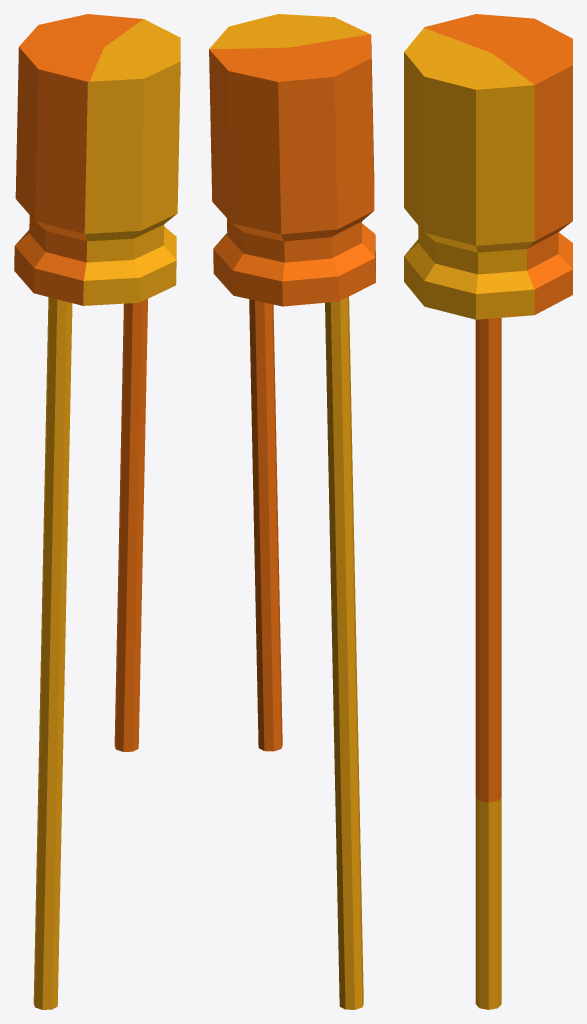
Rendered from capacitorr.fbx.
3 renders of one model, left to right at view 1: azimuth 30°, elevation 25°; view 2: azimuth 150°, elevation 25°; view 3: azimuth 270°, elevation 25°, orthographic. The views are drawn at different scales.
Parts seen in each view (by area): view 1: Terminals; view 2: Terminals; view 3: Terminals.
Part boxes in pixels (bbox=[...]): Terminals: bbox=[14, 14, 180, 1009]; Terminals: bbox=[209, 14, 375, 1009]; Terminals: bbox=[404, 14, 572, 1009].
Size of the model in its own units: 3.71 by 22.74 by 3.54.
1 material, 1 textured.
